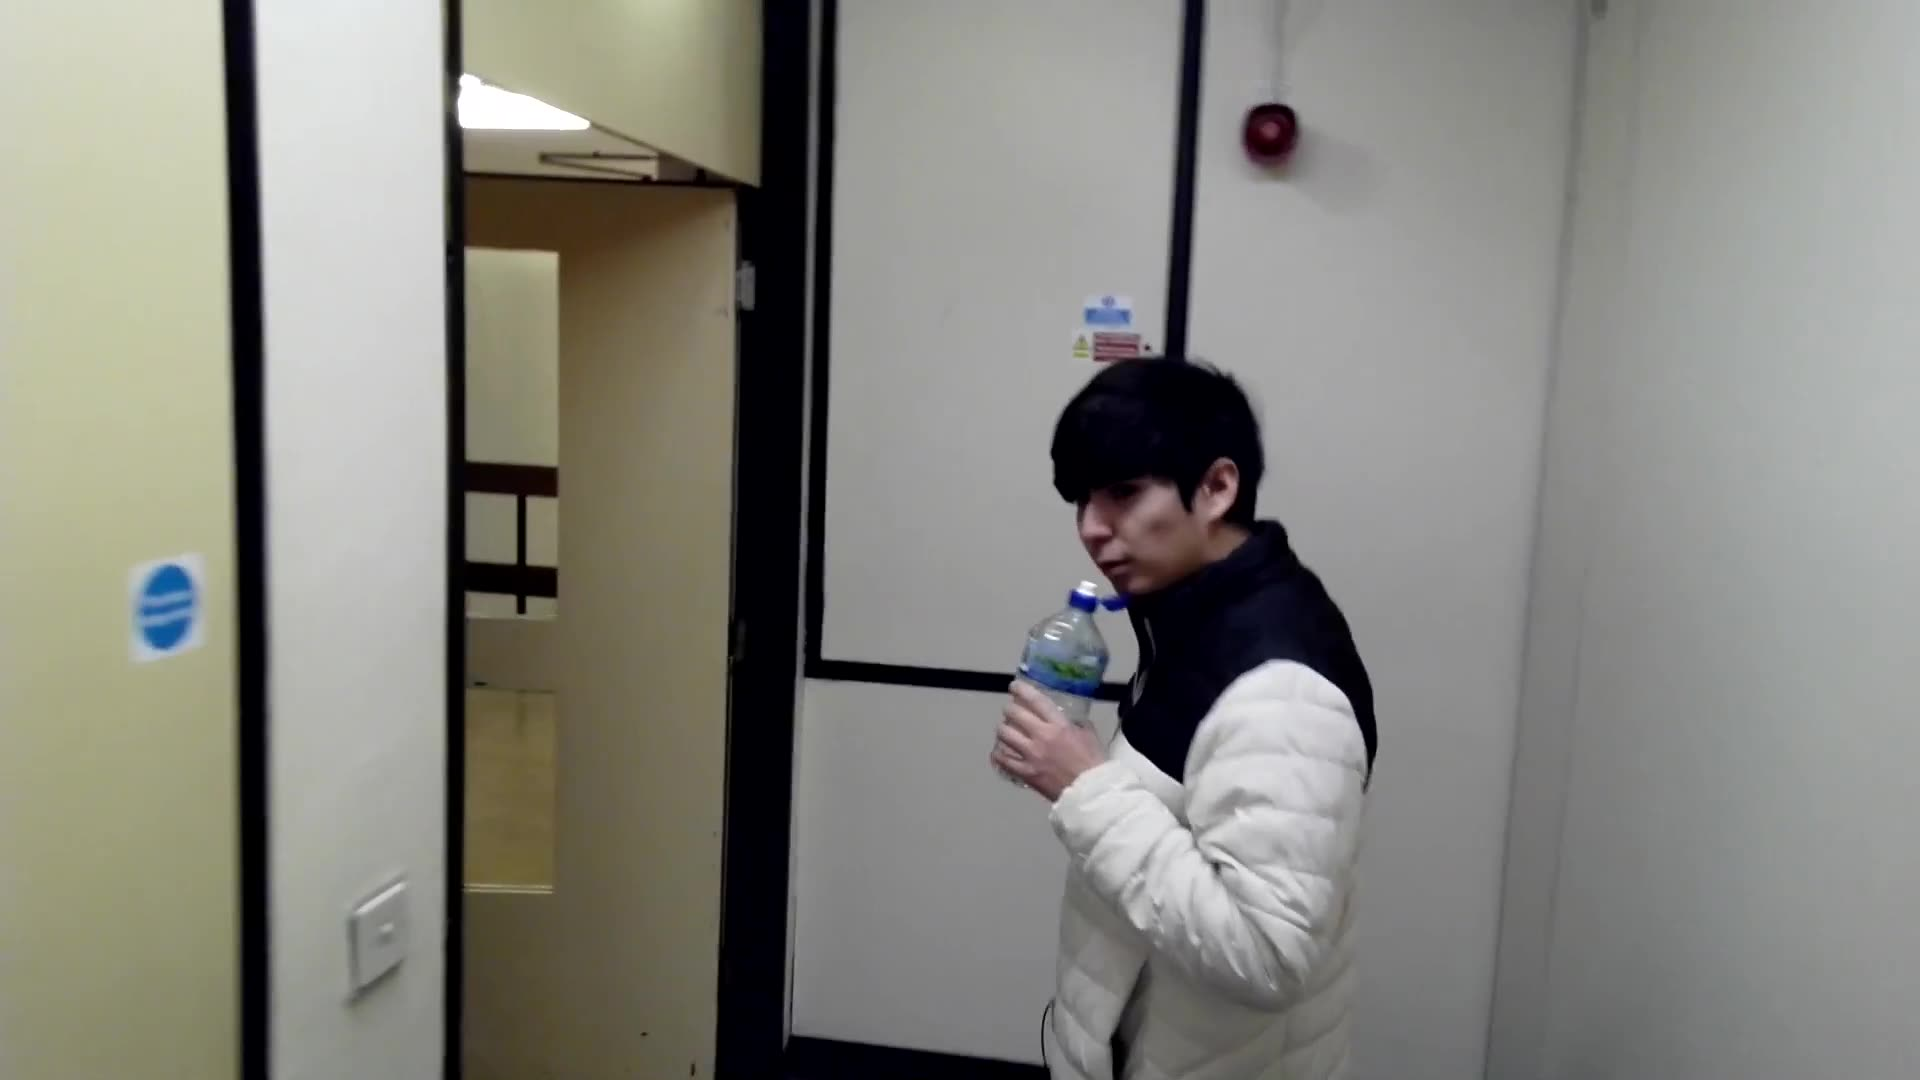Person: (1049, 355, 1380, 1080)
